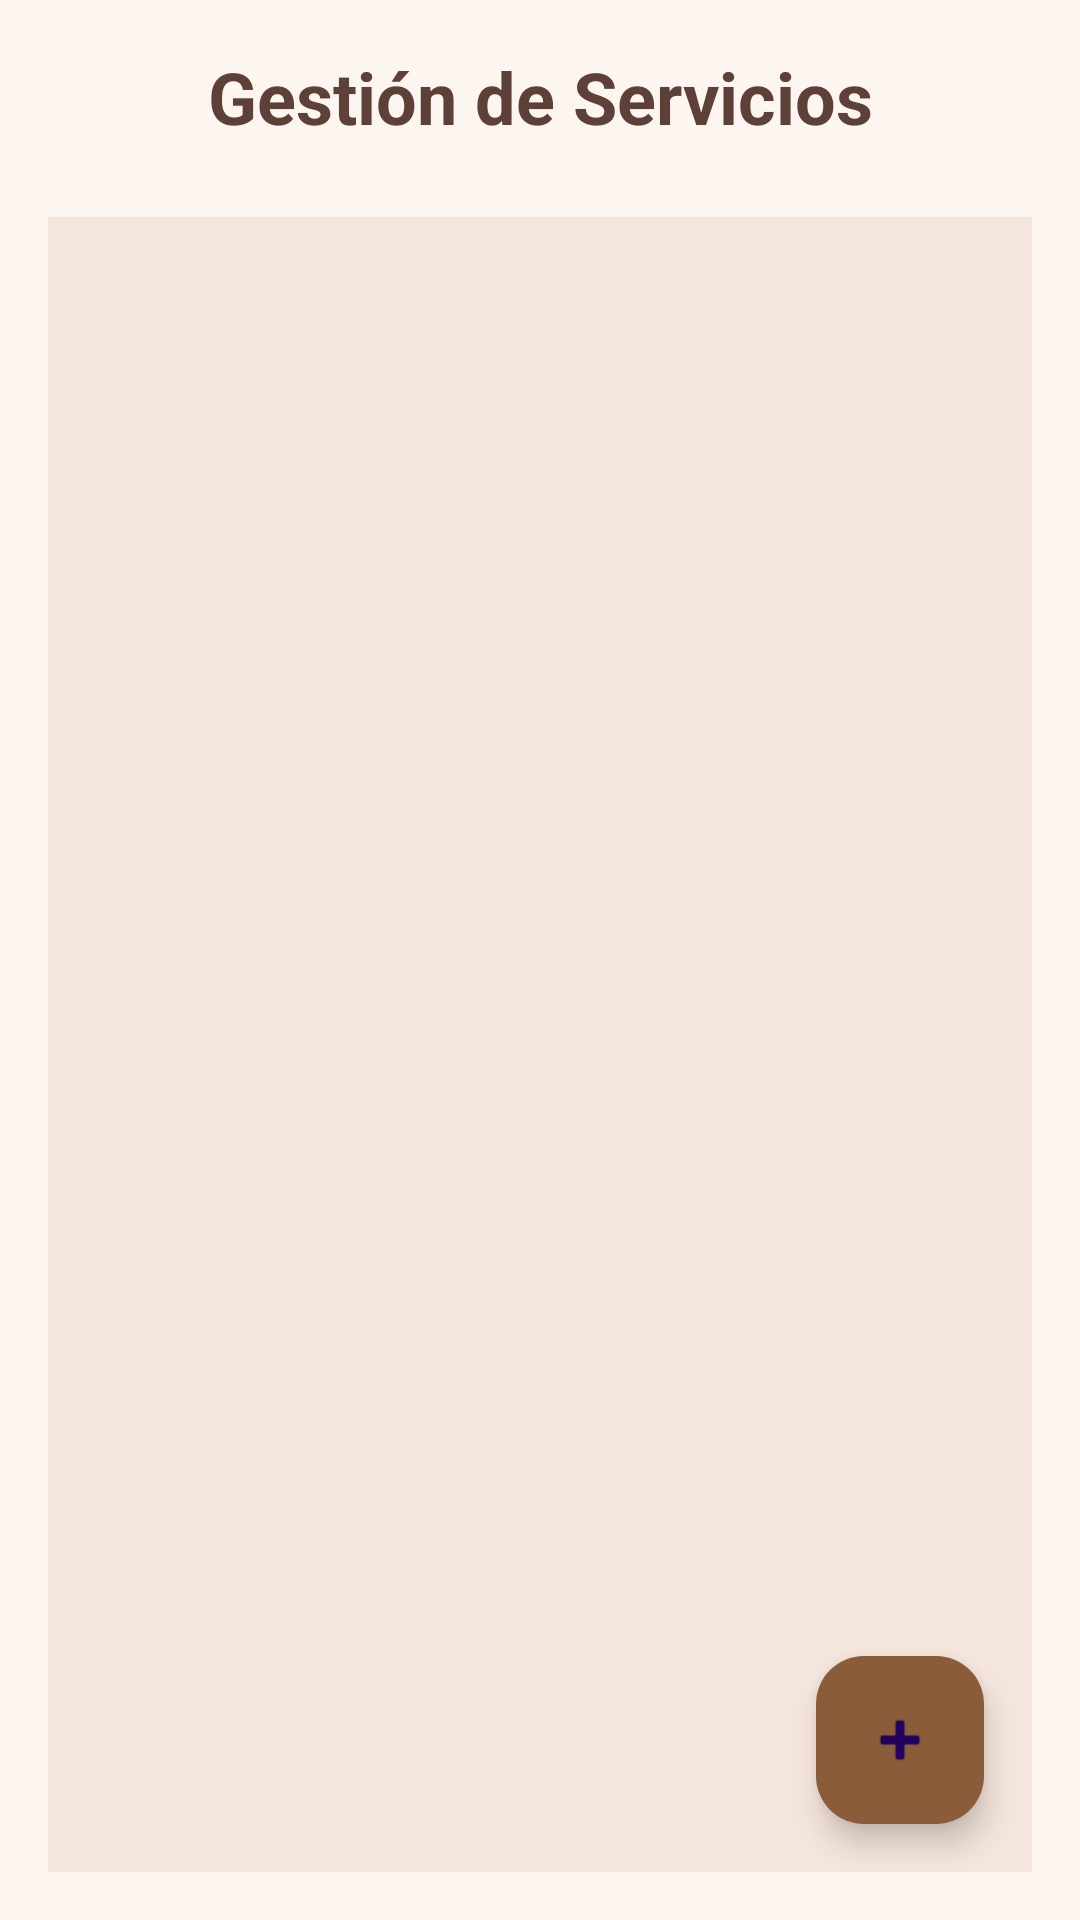

Point at icon controls on the screen. Image size 1080w x 1920h, points as (x=x, y=y).
Agregar servicio: (x=900, y=1740)
